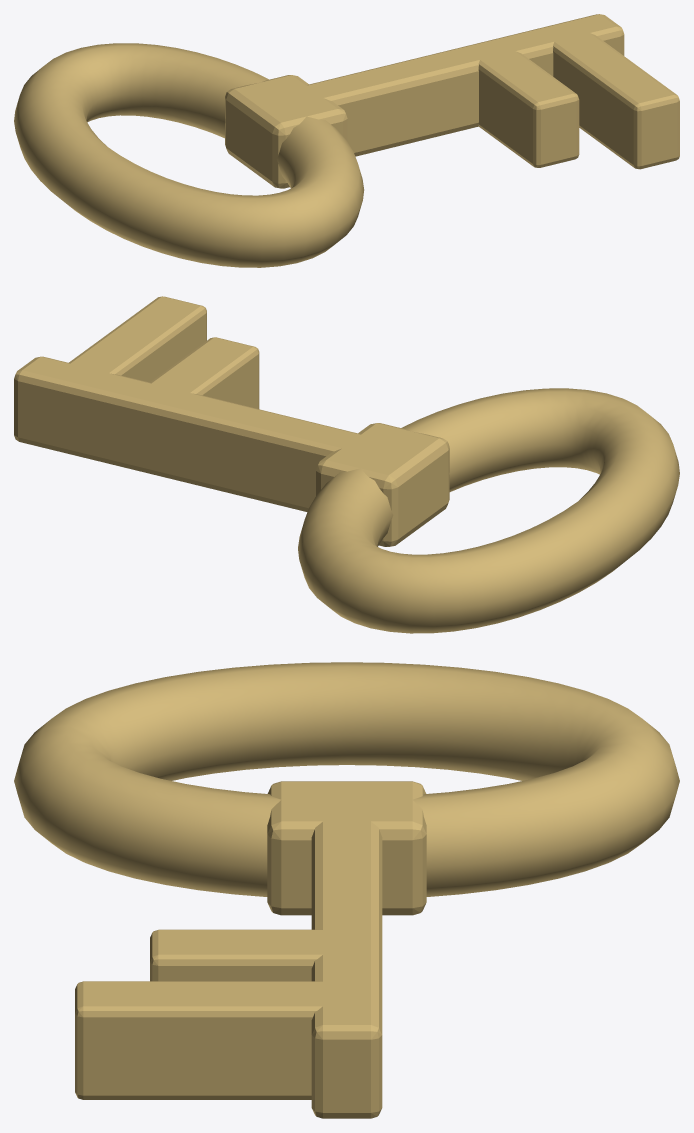
Rendered from service_key.glb.
3 views of the same model, one above another, from view 1: azimuth 30°, elevation 25°; view 2: azimuth 150°, elevation 25°; view 3: azimuth 270°, elevation 25° (orthographic). The views are drawn at different scales.
Parts seen in each view (by area): view 1: service_key / service_key_nickel_brass; view 2: service_key / service_key_nickel_brass; view 3: service_key / service_key_nickel_brass.
Boxes of the visible parts, x1,y1,x2,y2 form: service_key / service_key_nickel_brass: [14, 14, 679, 267]; service_key / service_key_nickel_brass: [14, 296, 679, 633]; service_key / service_key_nickel_brass: [14, 662, 679, 1118].
Size of the model in its own units: 0.97 by 0.11 by 0.71.
